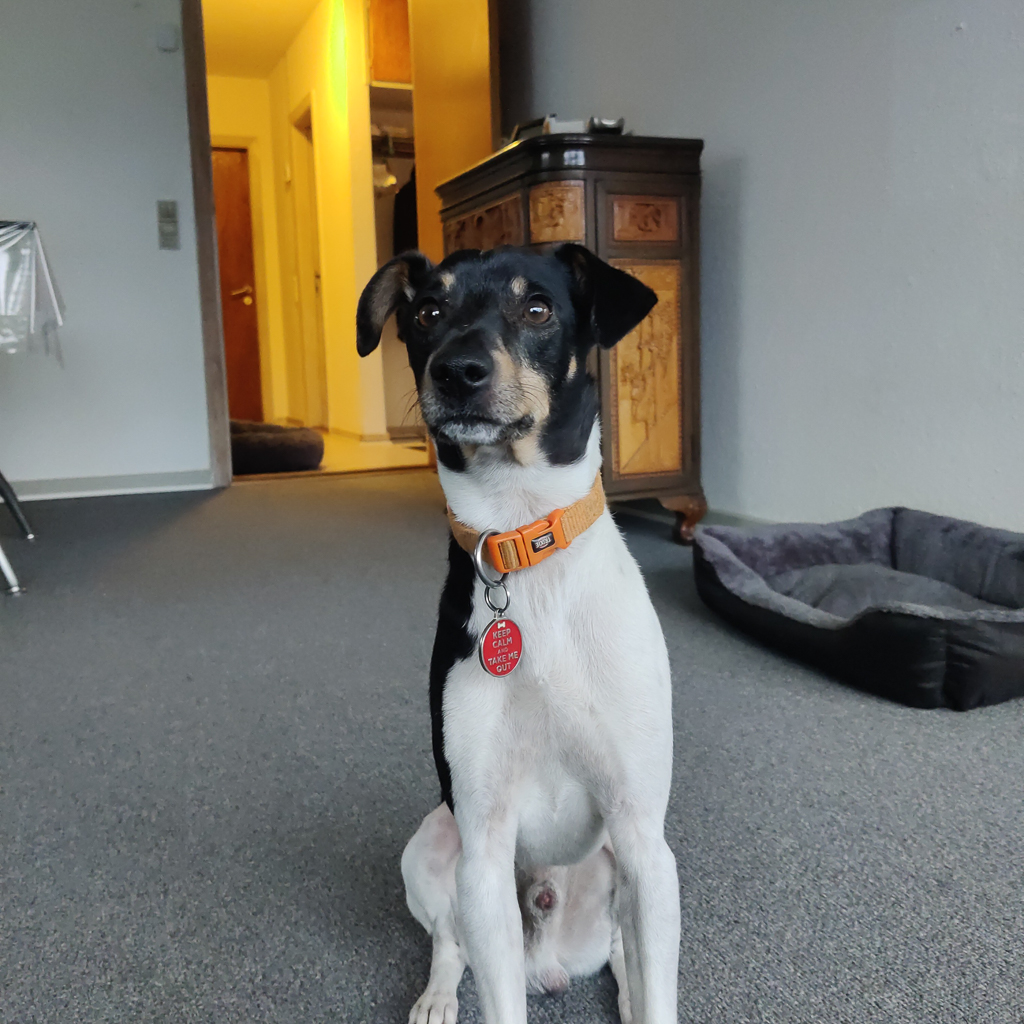Dog: (317, 209, 726, 1024)
